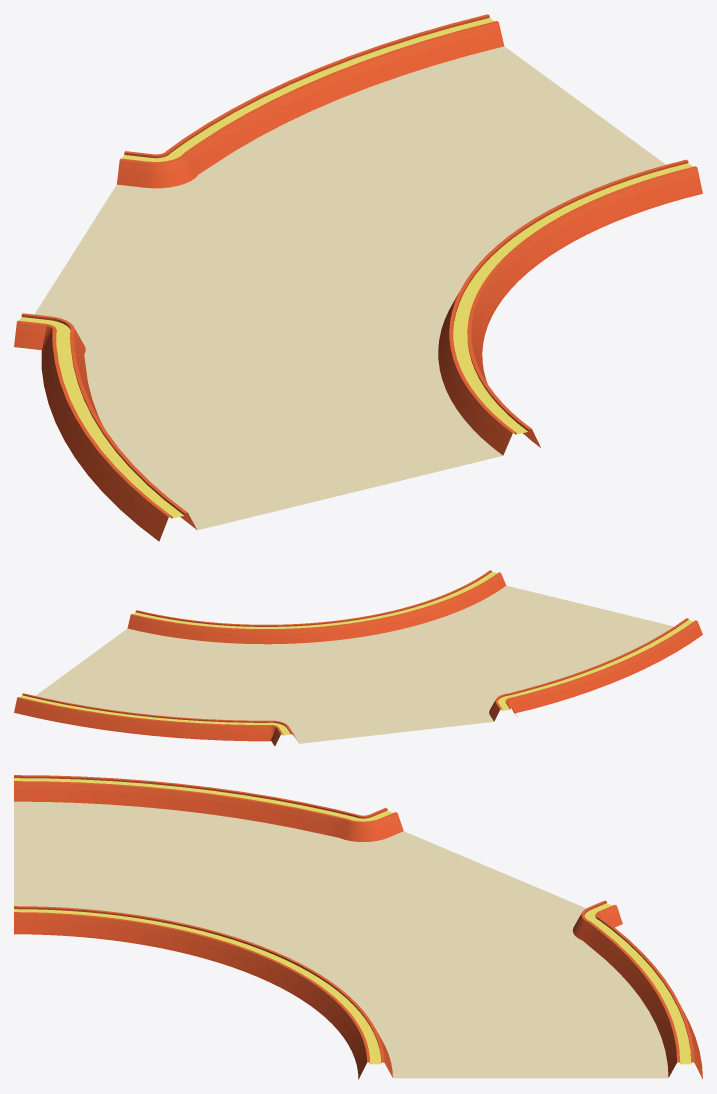
Rendered from sm_path_futuristic_bigcurvediagonal.fbx.
3 renders of one model, top to bottom at view 1: azimuth 30°, elevation 25°; view 2: azimuth 150°, elevation 25°; view 3: azimuth 270°, elevation 25°, orthographic. The views are drawn at different scales.
Parts seen in each view (by area): view 1: sm_path_futuristic_bigcurvediagonal; view 2: sm_path_futuristic_bigcurvediagonal; view 3: sm_path_futuristic_bigcurvediagonal.
Part boxes in pixels (x1,y1,x2,y2): sm_path_futuristic_bigcurvediagonal: (14,14,702,541); sm_path_futuristic_bigcurvediagonal: (14,570,702,746); sm_path_futuristic_bigcurvediagonal: (14,775,702,1079).
Bounding box in the file's own units: 600 × 600 × 16.6.
